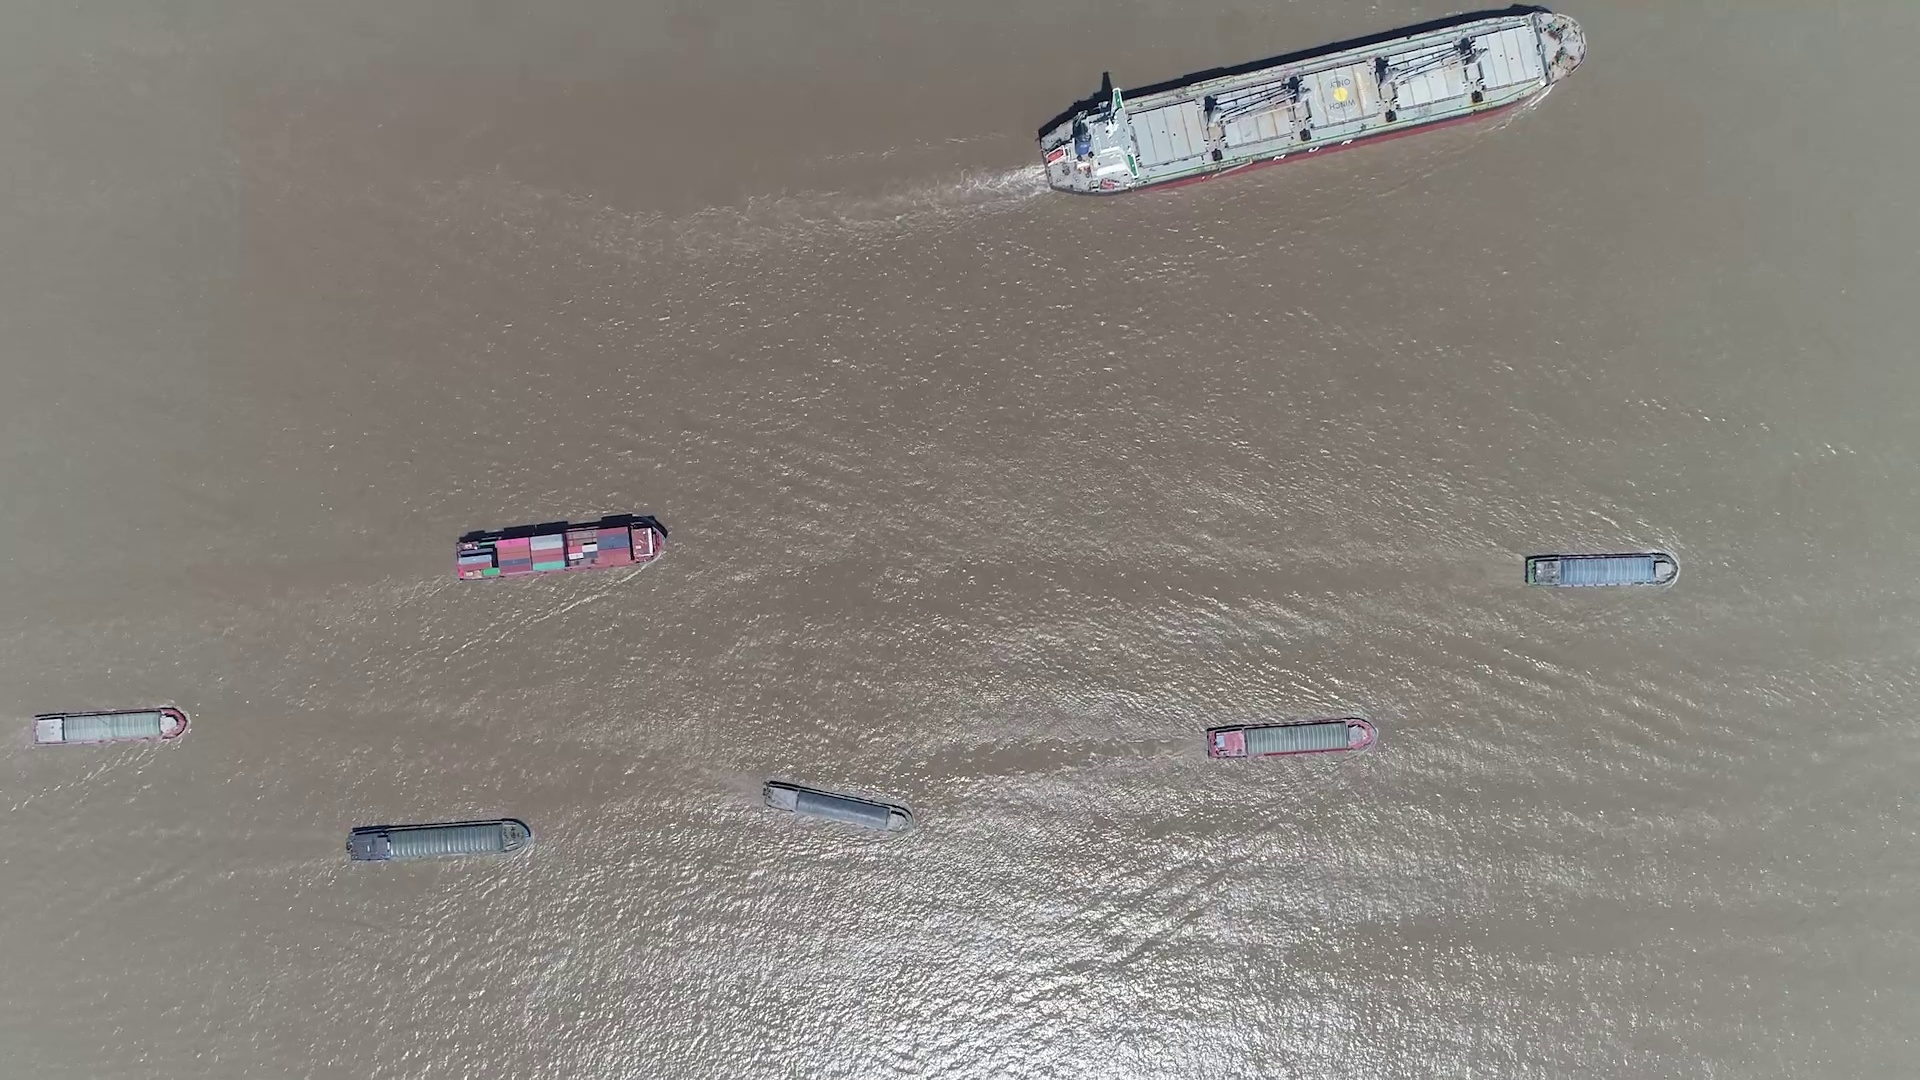ship: (1038, 13, 1582, 194), (454, 517, 669, 580), (345, 818, 533, 864), (762, 781, 913, 833), (1207, 717, 1377, 760), (32, 707, 190, 745), (1524, 553, 1679, 589)
